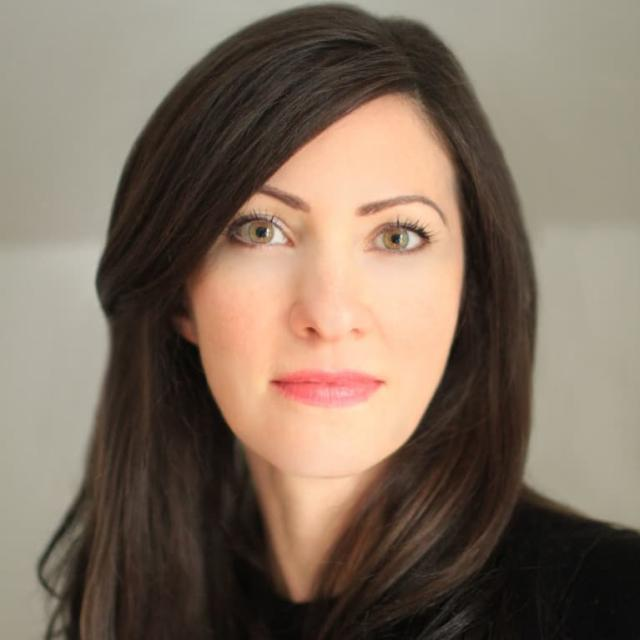human: (37, 6, 640, 640)
